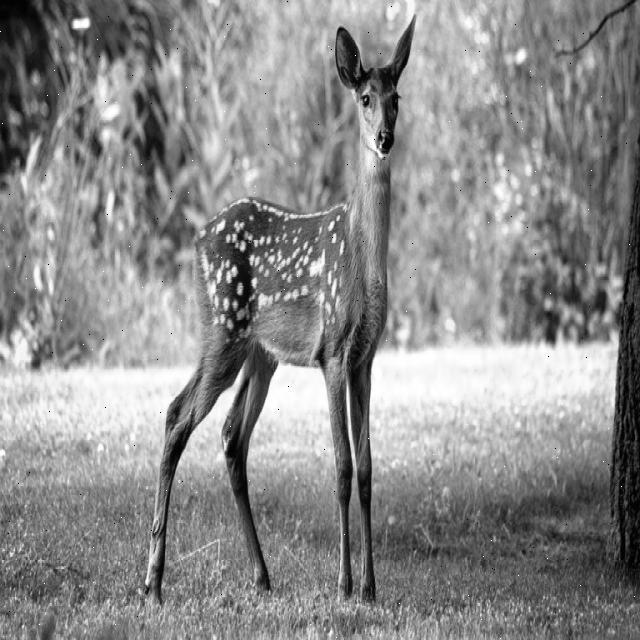deer: (136, 8, 421, 620)
